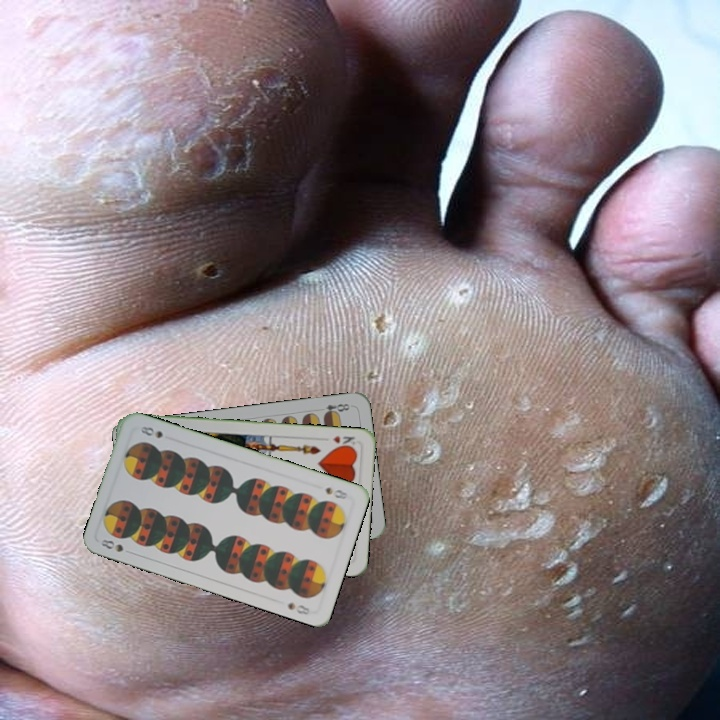E8: (320, 400, 352, 418)
HK: (329, 432, 357, 451)
S8: (96, 535, 126, 555), (322, 483, 351, 502)
